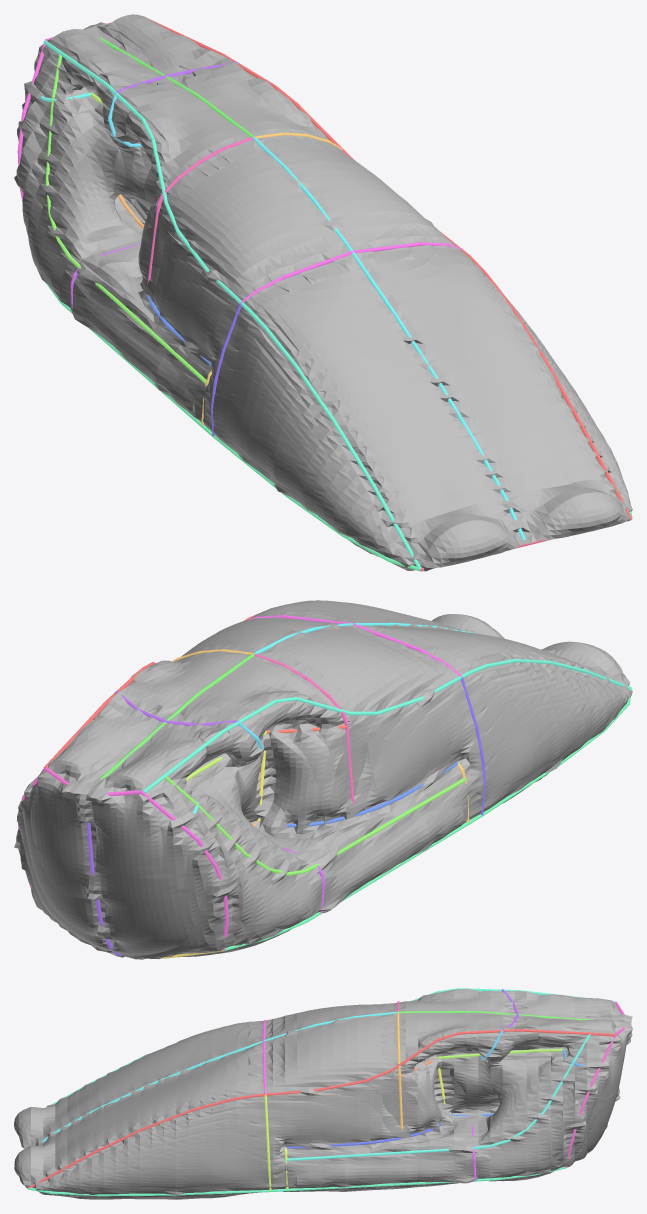
File: t2f_hand_vacuum.gltf
The picture shows the model from 3 angles, top to bottom: view 1: azimuth 30°, elevation 25°; view 2: azimuth 150°, elevation 25°; view 3: azimuth 270°, elevation 25°; orthographic projection. The views are drawn at different scales.
Size of the model in its own units: 0.3441 by 0.2639 by 0.9438.
